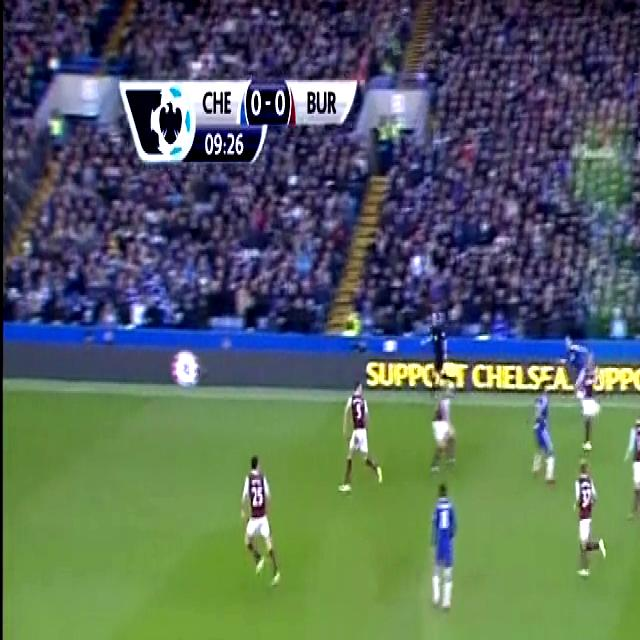referee: (416, 306, 456, 397), (633, 522, 640, 640)
soccer-player: (232, 448, 287, 594), (328, 373, 389, 502), (568, 450, 610, 592), (423, 482, 461, 618), (568, 346, 609, 452), (527, 373, 559, 488), (429, 379, 459, 480), (618, 402, 640, 517)
